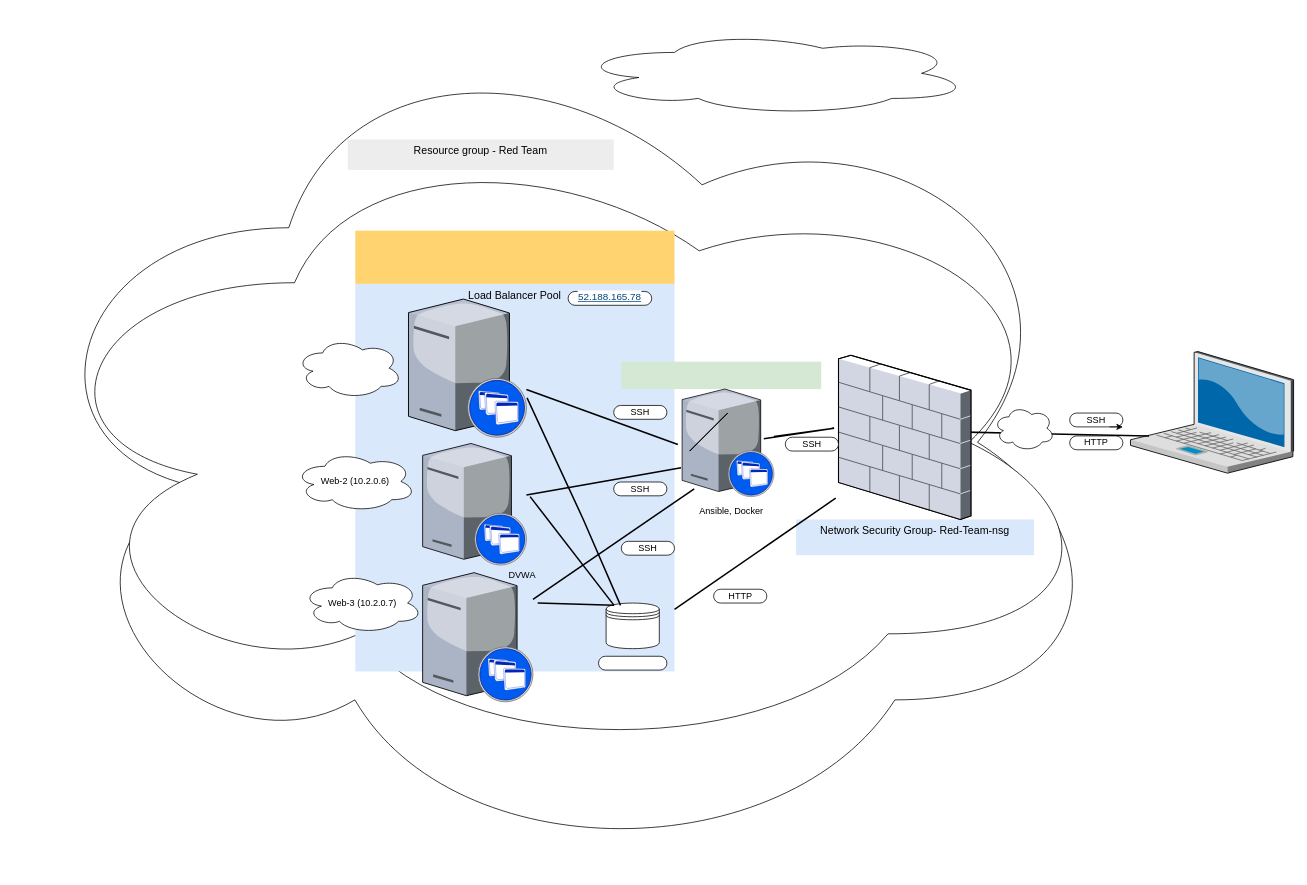
Some shapes in this 1307 by 885 pixel diagram are drawn without their labels. The shapes that lost their labels are listed below. From the top down, each one's centre as x and y in pixels, then its label:
point 773,73: HW12_Cloud Security Diagram
point 514,256: Virtual Network - Red -Team-Vnet (10.2.0.0/16) Subnets (10.2.0.0/24)
point 348,368: web-1 (10.2.0.5)
point 721,375: Jump-Box-Provisioner (40.121.39.52 )
point 1023,428: internet
point 1211,412: Computer/workstations
point 632,663: Load Balancer
